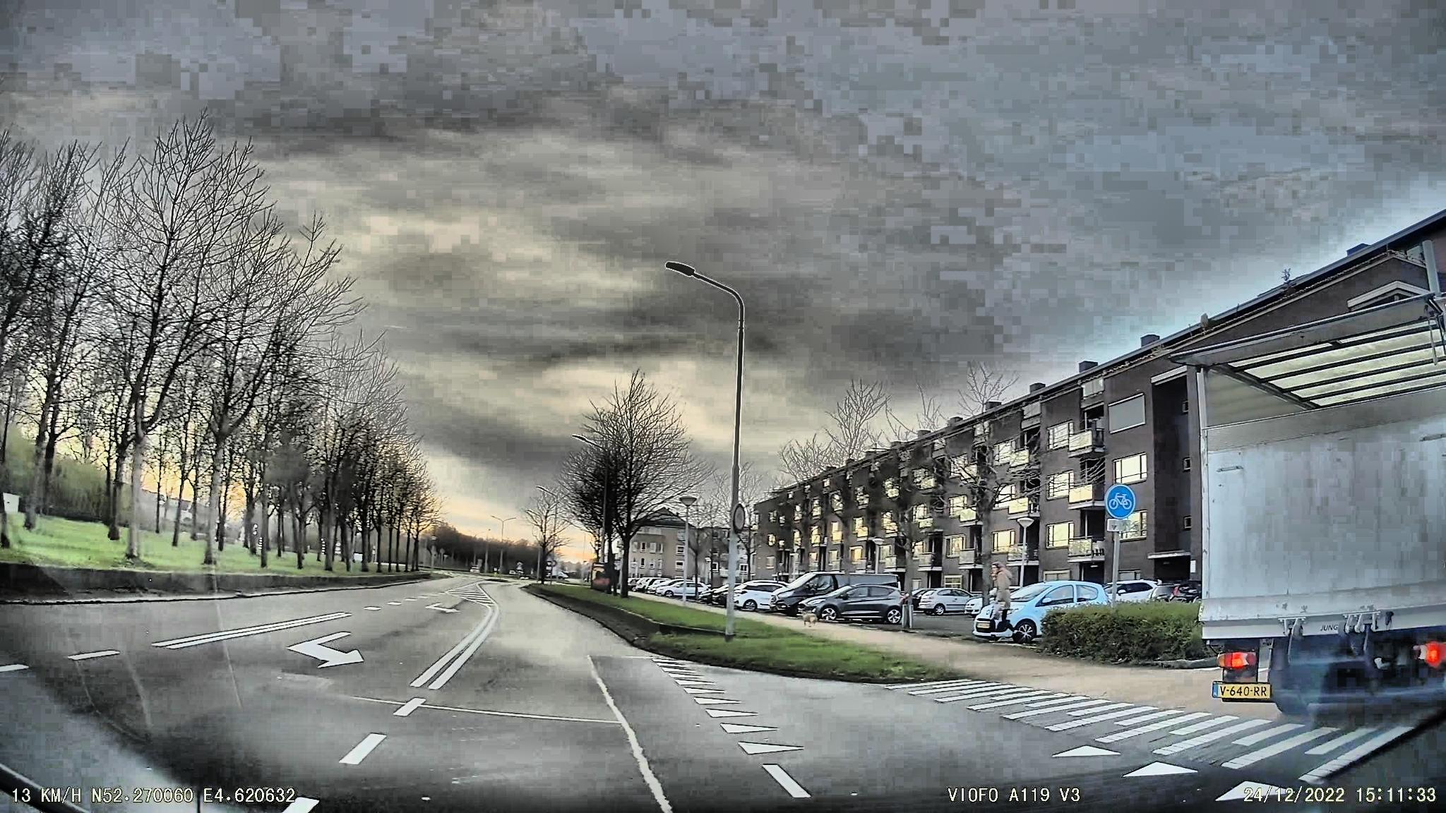Roads: (0, 580, 1446, 813)
